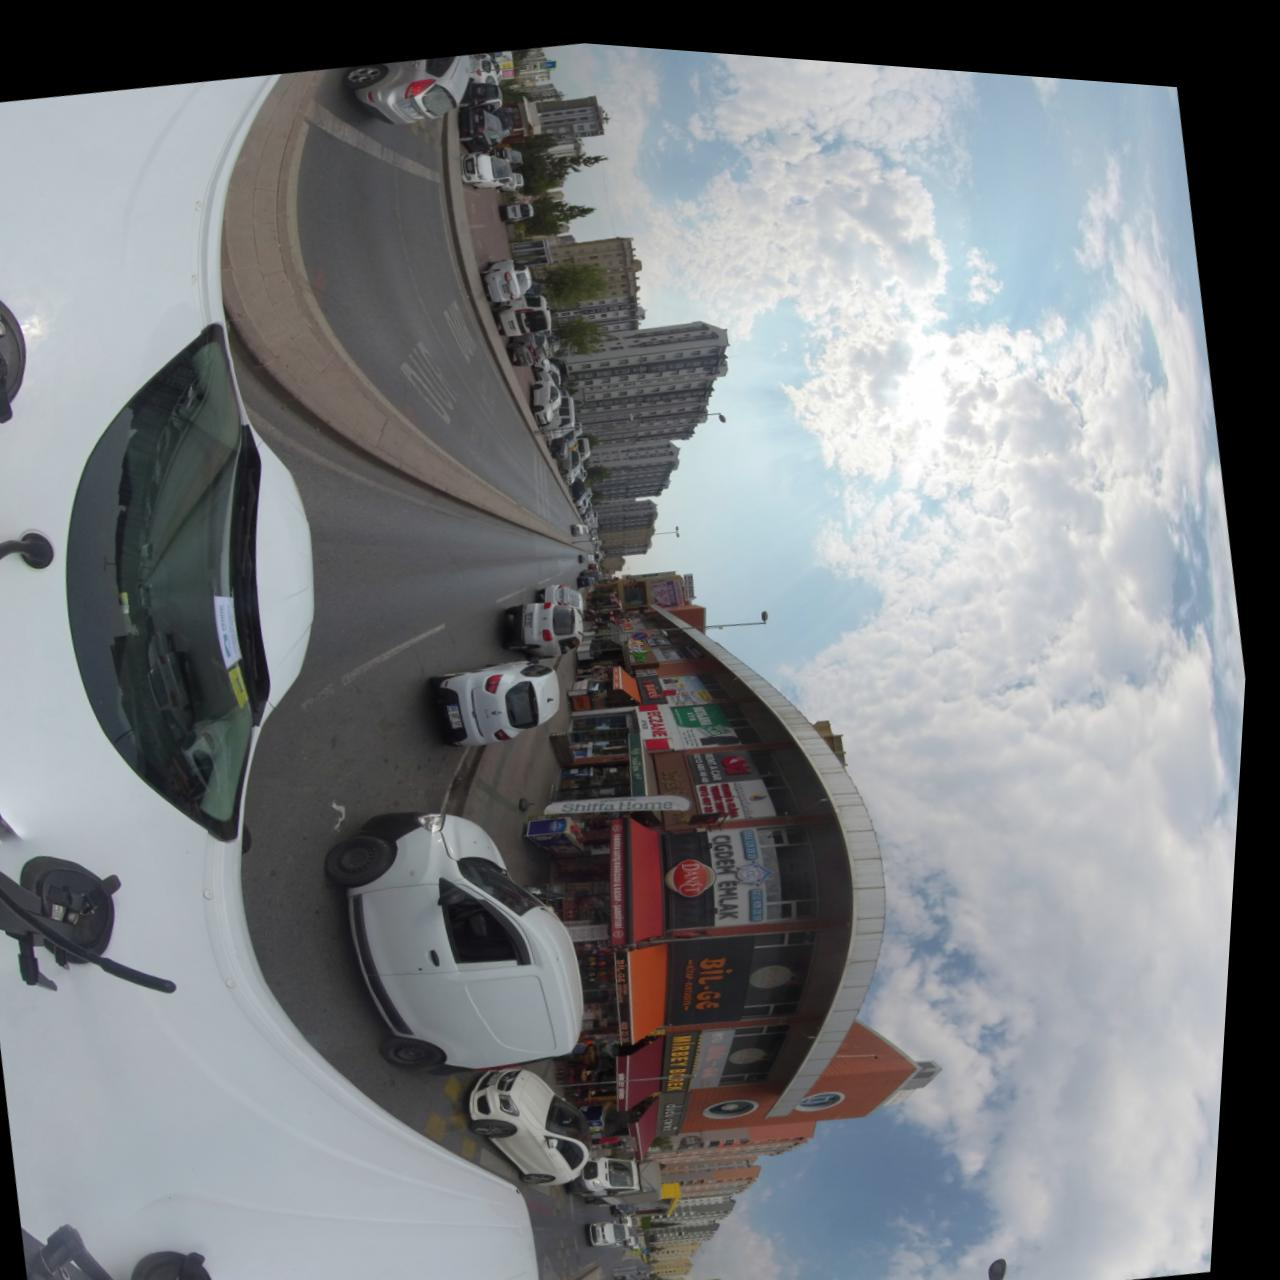SignStore: (681, 925, 764, 1016), (675, 821, 727, 919), (674, 1019, 713, 1082), (662, 741, 707, 792), (644, 693, 680, 729), (669, 1080, 697, 1126), (645, 666, 674, 694), (634, 633, 666, 659), (642, 658, 665, 666), (631, 613, 640, 619)
